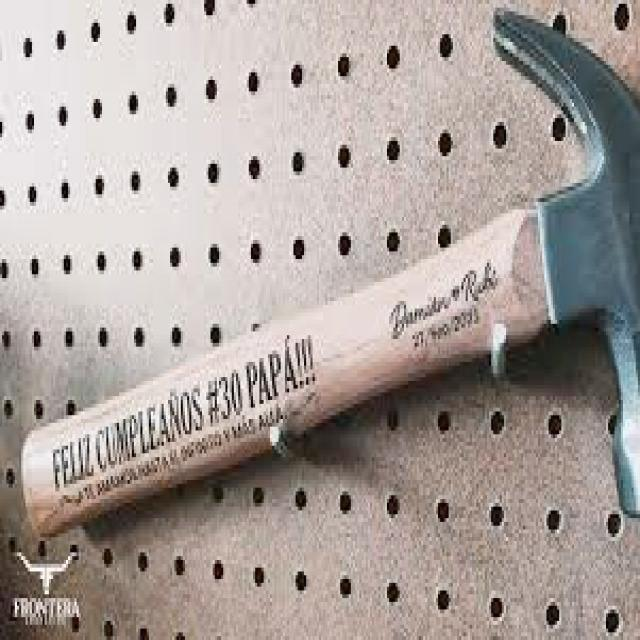hammer: (15, 0, 640, 560)
